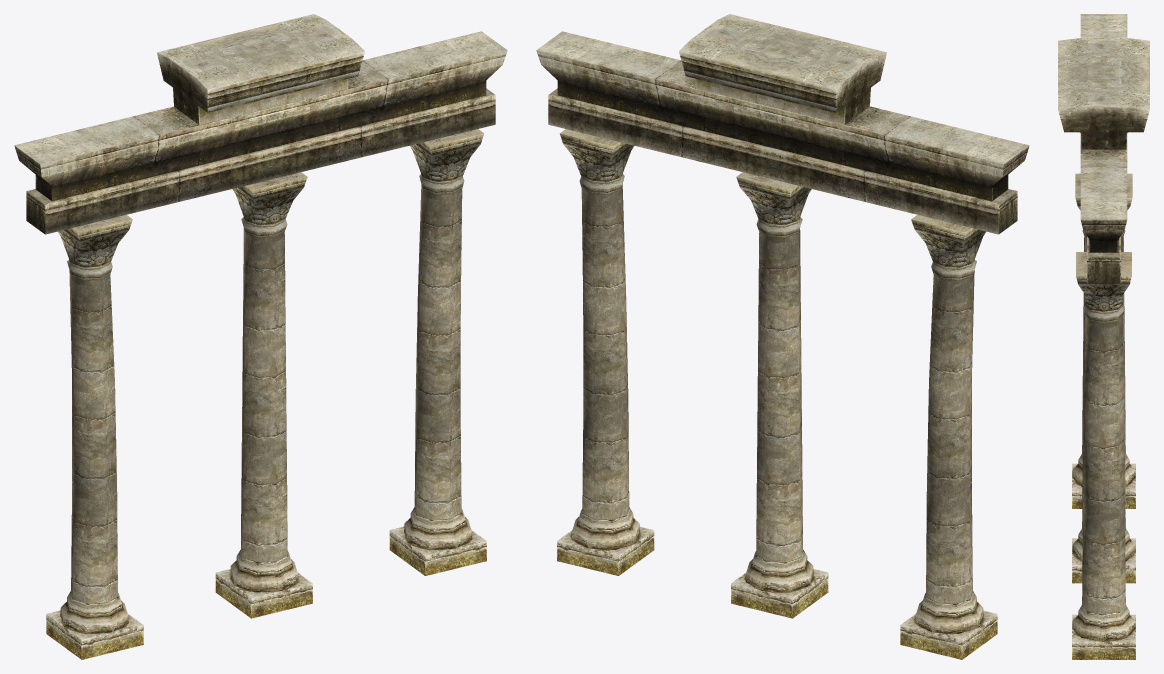
The model's file is OZ_26_mi_column01A.glb.
3 views of the same model, side by side, from view 1: azimuth 30°, elevation 25°; view 2: azimuth 150°, elevation 25°; view 3: azimuth 270°, elevation 25° (orthographic). The views are drawn at different scales.
Parts seen in each view (by area): view 1: OM_26_mi_column01A; view 2: OM_26_mi_column01A; view 3: OM_26_mi_column01A.
Part boxes in pixels (x1,y1,x2,y2): OM_26_mi_column01A: [14, 14, 507, 659]; OM_26_mi_column01A: [536, 14, 1029, 659]; OM_26_mi_column01A: [1058, 14, 1149, 659].
Size of the model in its own units: 12.71 by 14.3 by 2.4.
2 materials, 2 textured.
